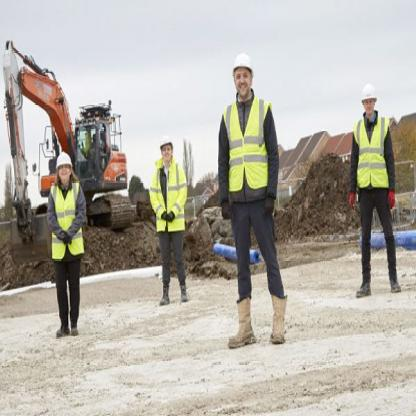excavator: (0, 38, 145, 280)
person: (214, 38, 291, 354), (338, 66, 405, 300), (141, 126, 197, 314), (45, 142, 87, 336)
